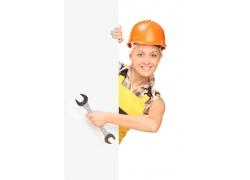helmet: (126, 20, 169, 51)
